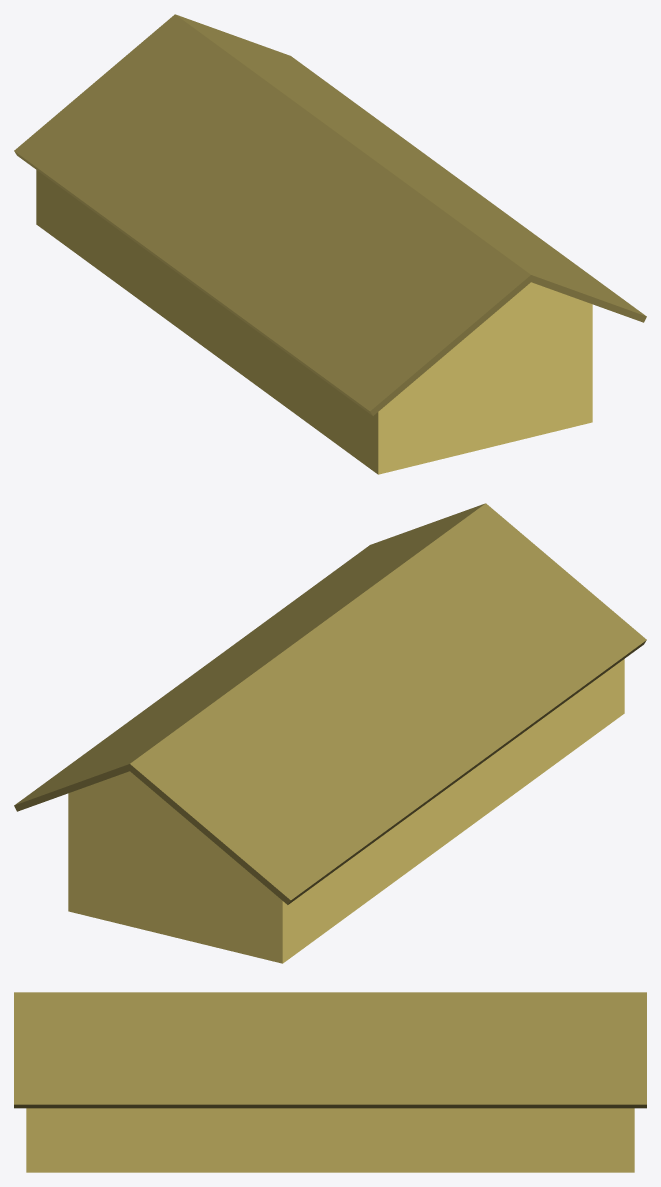
File: result.glb
3 renders of one model, top to bottom at view 1: azimuth 30°, elevation 25°; view 2: azimuth 150°, elevation 25°; view 3: azimuth 270°, elevation 25°, orthographic. The views are drawn at different scales.
Visible parts, largest first — view 1: 7716164f-41ad-44e3-b172-3ae44e2dd7bf__undefined (×2), 6e0bafa4-6b20-4fcb-bb85-73b678a25505__undefined; view 2: 7716164f-41ad-44e3-b172-3ae44e2dd7bf__undefined (×2), 6e0bafa4-6b20-4fcb-bb85-73b678a25505__undefined; view 3: 7716164f-41ad-44e3-b172-3ae44e2dd7bf__undefined, 6e0bafa4-6b20-4fcb-bb85-73b678a25505__undefined.
Boxes of the visible parts, box(x1,y1,x2,y2) form: 7716164f-41ad-44e3-b172-3ae44e2dd7bf__undefined (×2): box(14, 14, 646, 415); 6e0bafa4-6b20-4fcb-bb85-73b678a25505__undefined: box(36, 170, 592, 474); 7716164f-41ad-44e3-b172-3ae44e2dd7bf__undefined (×2): box(14, 503, 646, 904); 6e0bafa4-6b20-4fcb-bb85-73b678a25505__undefined: box(68, 659, 624, 963); 7716164f-41ad-44e3-b172-3ae44e2dd7bf__undefined: box(14, 992, 646, 1108); 6e0bafa4-6b20-4fcb-bb85-73b678a25505__undefined: box(26, 1108, 634, 1172).
Size of the model in its own units: 1141 by 667 by 2541.
